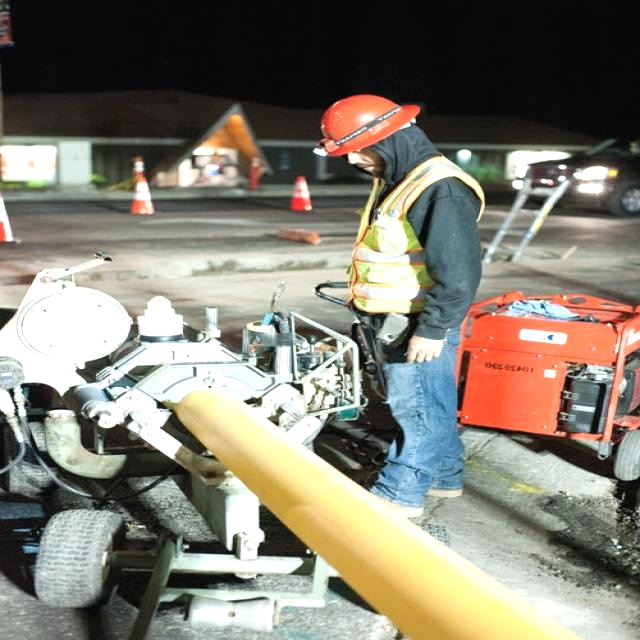Con_Casco: (318, 95, 416, 168)
Con_Chaleco: (347, 167, 489, 317)
